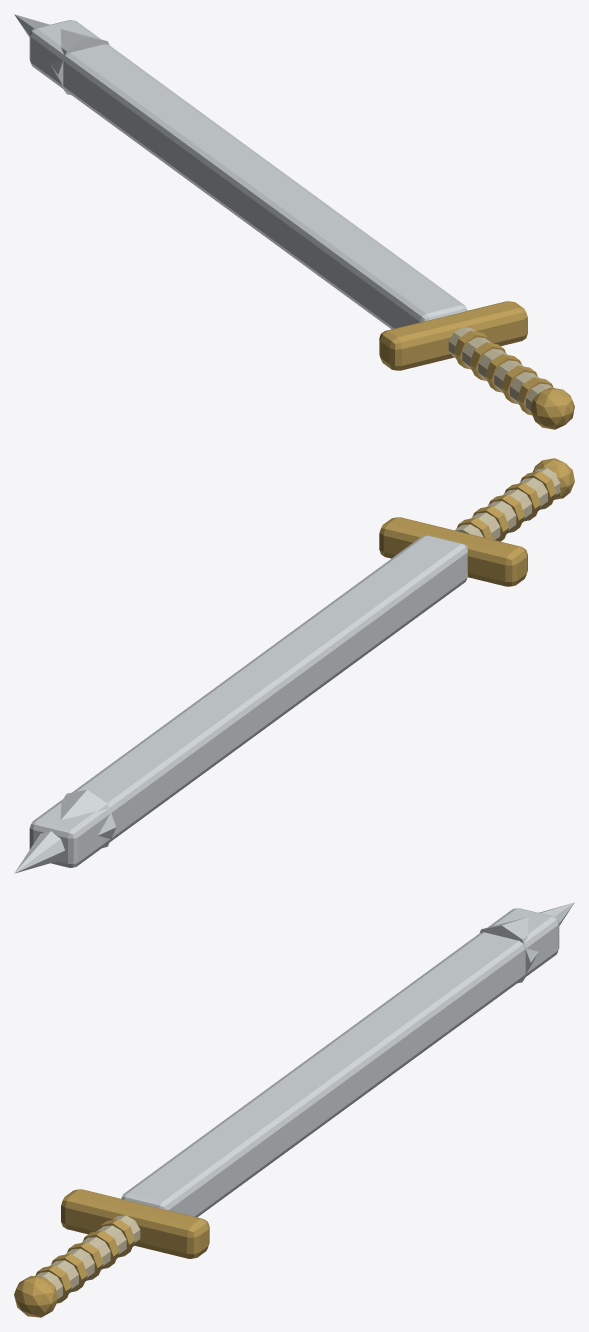
File: flying_sword.glb
The picture shows the model from 3 angles, top to bottom: view 1: azimuth 30°, elevation 25°; view 2: azimuth 150°, elevation 25°; view 3: azimuth 330°, elevation 25°; orthographic projection.
Parts seen in each view (by area): view 1: Blade, Guard, Grip, Pommel, Tip; view 2: Blade, Guard, Tip, Grip, Pommel; view 3: Blade, Guard, Grip, Pommel, Tip.
Boxes of the visible parts, x1,y1,x2,y2 form: Blade: [29, 20, 467, 329]; Guard: [379, 301, 527, 370]; Grip: [448, 327, 552, 413]; Pommel: [530, 387, 574, 429]; Tip: [14, 14, 109, 95]; Blade: [29, 535, 467, 867]; Guard: [379, 517, 527, 586]; Tip: [14, 790, 116, 873]; Grip: [455, 468, 560, 540]; Pommel: [533, 458, 574, 499]; Blade: [121, 908, 559, 1217]; Guard: [61, 1189, 209, 1258]; Grip: [36, 1215, 140, 1301]; Pommel: [14, 1276, 58, 1317]; Tip: [479, 902, 574, 983].
Bounding box in the file's own units: 0.26 × 0.11 × 1.8.
